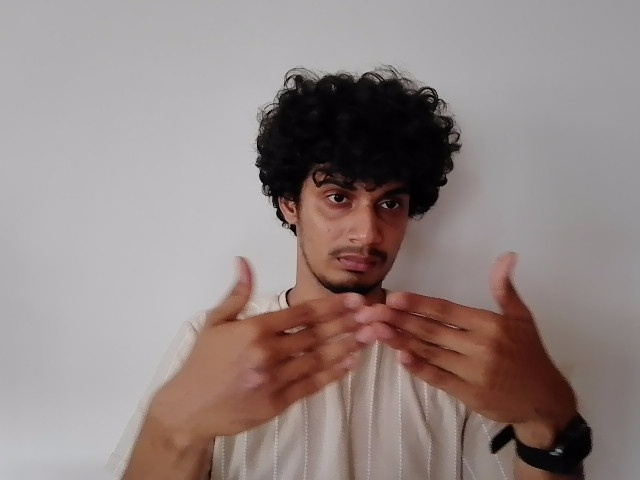family: (147, 251, 555, 426)
